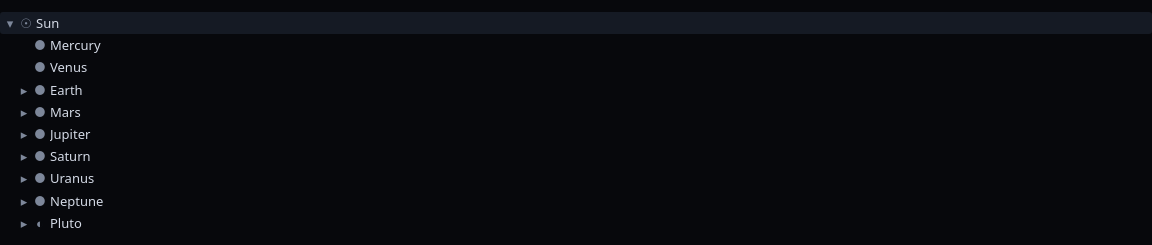
Test: SystemTree › click selects, double-click focuses
Later steps or results of the test are not shown.
Click the text "Mars" at (65, 112), box [50,103,81,121]
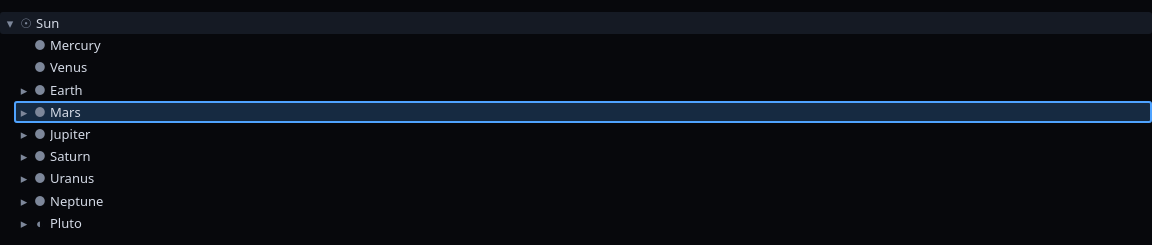
Check: the list item "Mars" is selected, box [14,101,1151,123]
